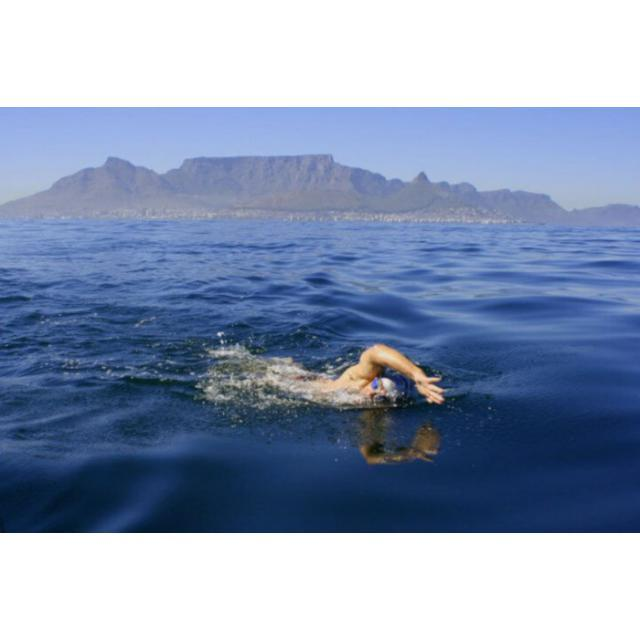human: (262, 341, 447, 412)
